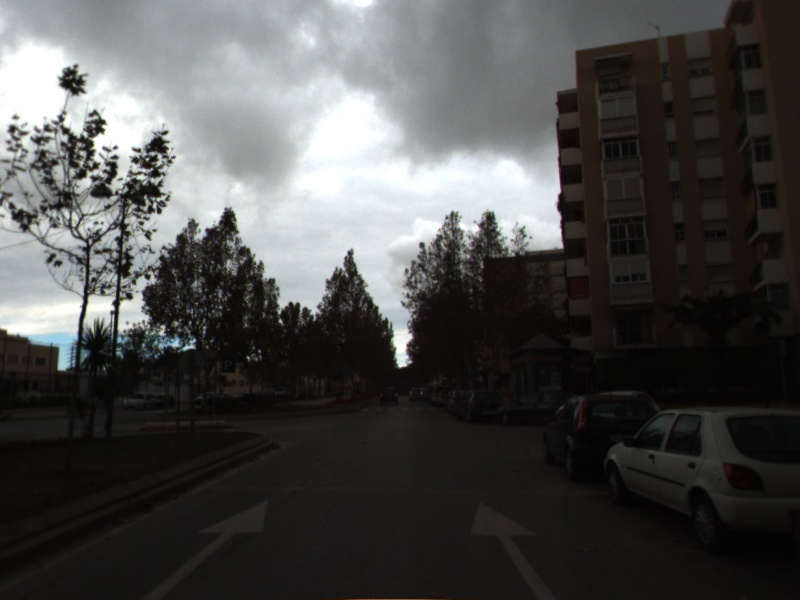STRAIGHT: (141, 495, 272, 600), (464, 497, 558, 600)
